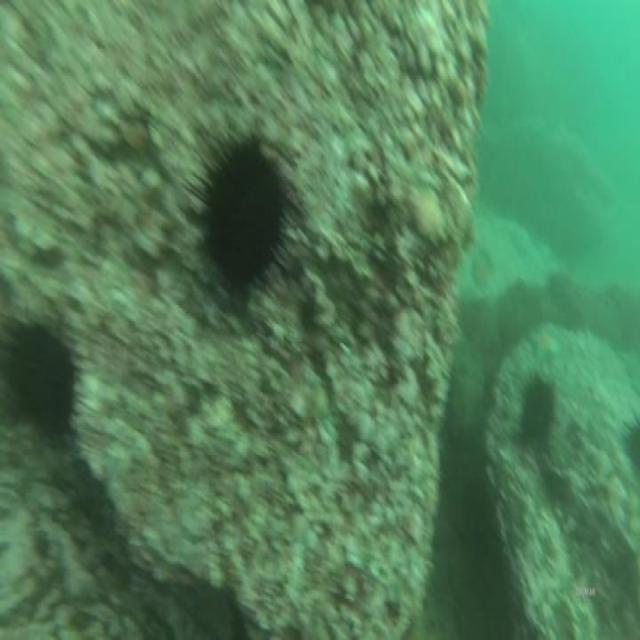echinus: (195, 136, 289, 303), (0, 319, 78, 444), (519, 368, 557, 449)
starfish: (528, 319, 561, 365)
